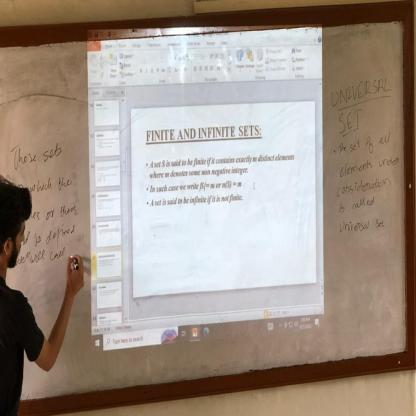Handwritten text: (322, 68, 396, 109), (331, 125, 397, 158), (331, 169, 398, 200), (334, 150, 405, 178), (7, 138, 70, 167), (26, 168, 76, 195), (335, 216, 388, 238), (34, 222, 82, 246), (336, 104, 368, 135), (334, 194, 382, 214), (43, 197, 81, 219)
Lecturer: (5, 160, 56, 413)
Whiteboard: (0, 14, 412, 414)
